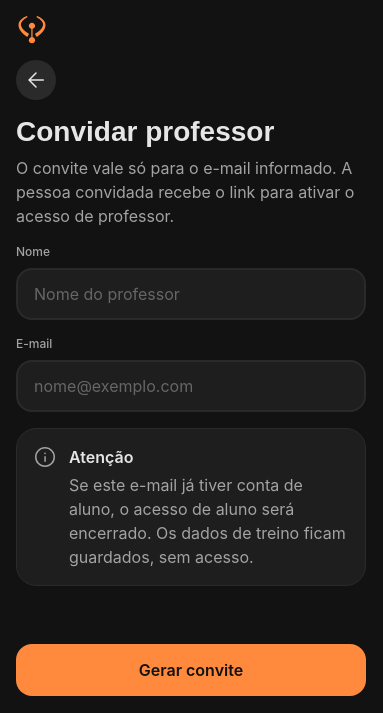
Test: Convidar professor (regras 87 e 92) › nome e e-mail vazios: erros no campo, sem gravar
Step 1. Click the button "Gerar convite" → (191, 670), box [16,644,366,696]
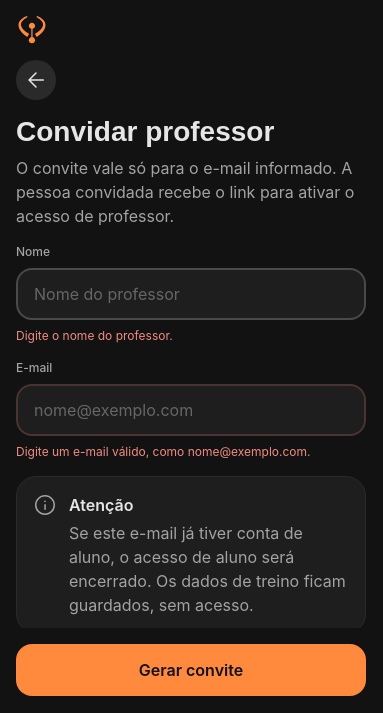
Result: the text "Digite o nome do professor." is shown at [16,328,173,343]
Result: the text "Digite um e-mail válido, como nome@exemplo.com." is shown at [16,444,310,459]
